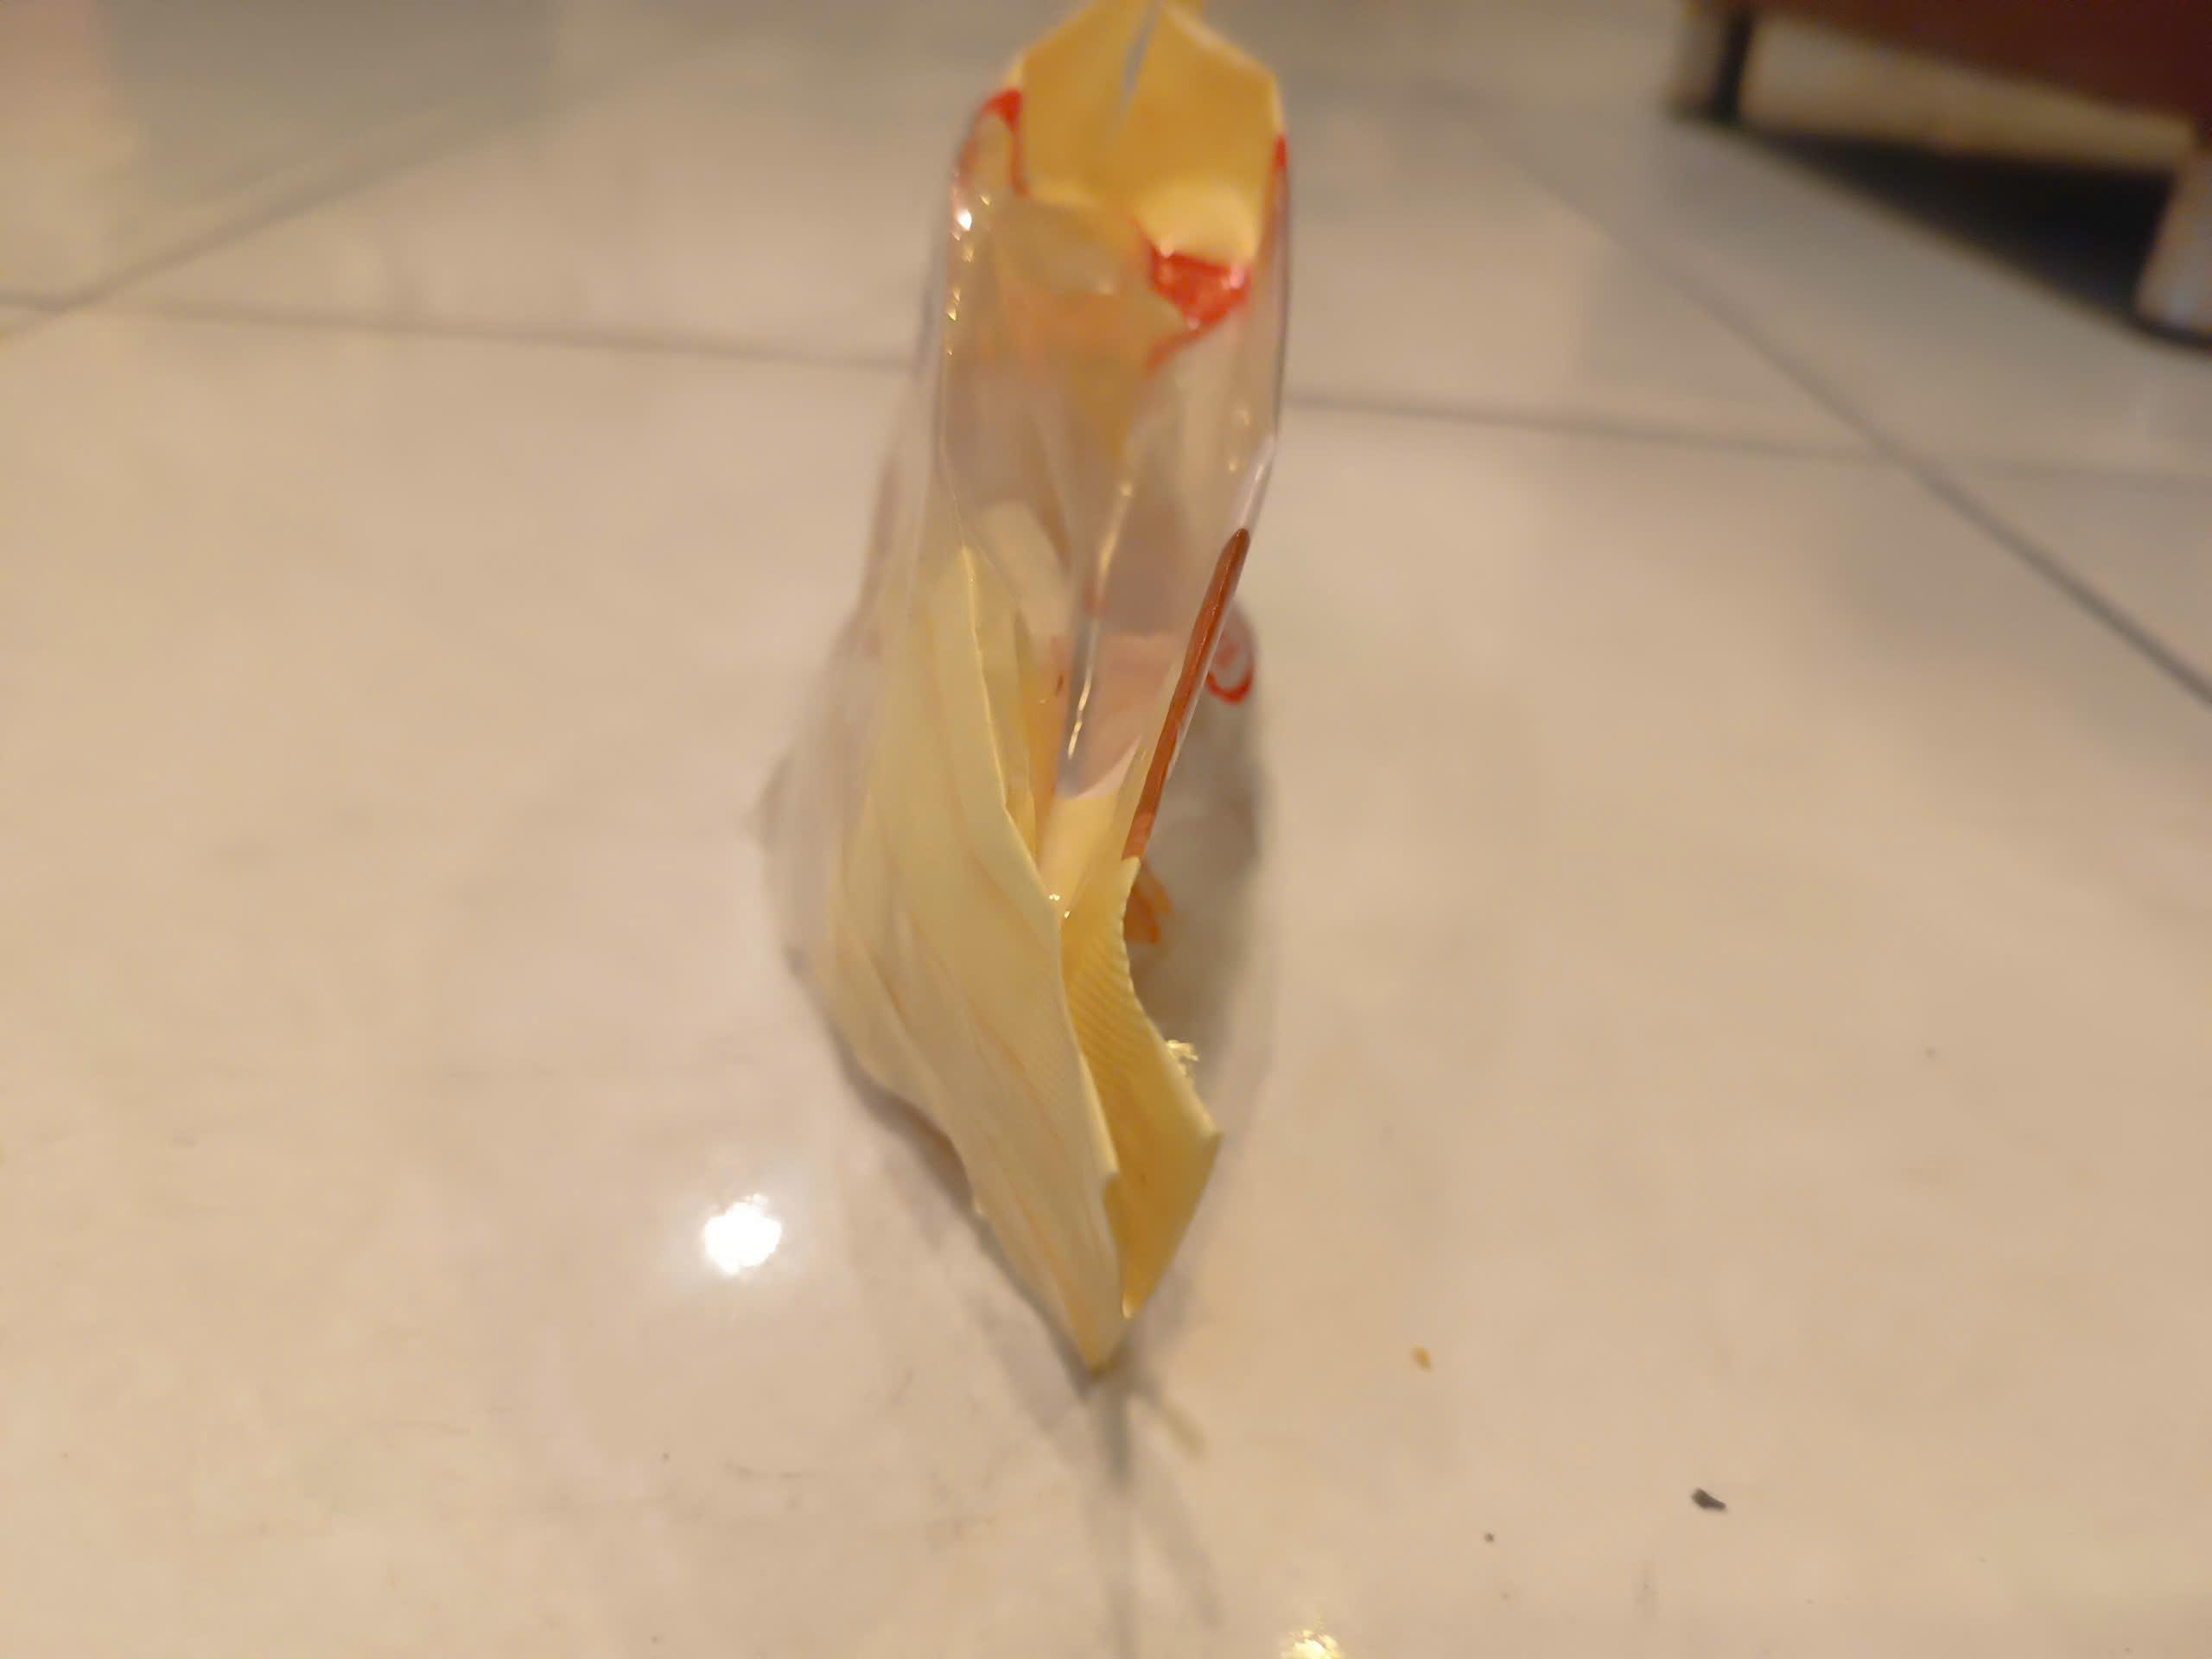Vo co: (798, 9, 1291, 1384)
